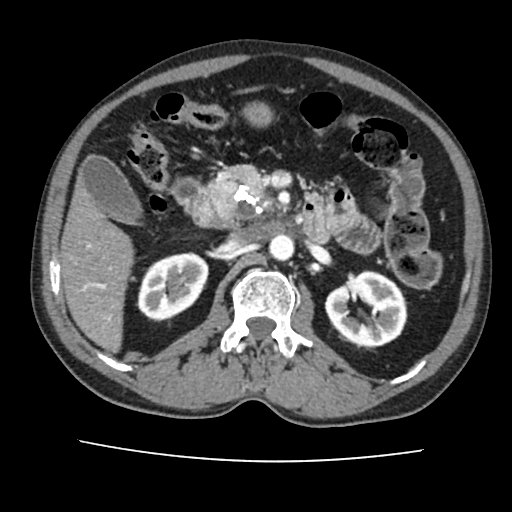aorta: (268, 232, 294, 261)
